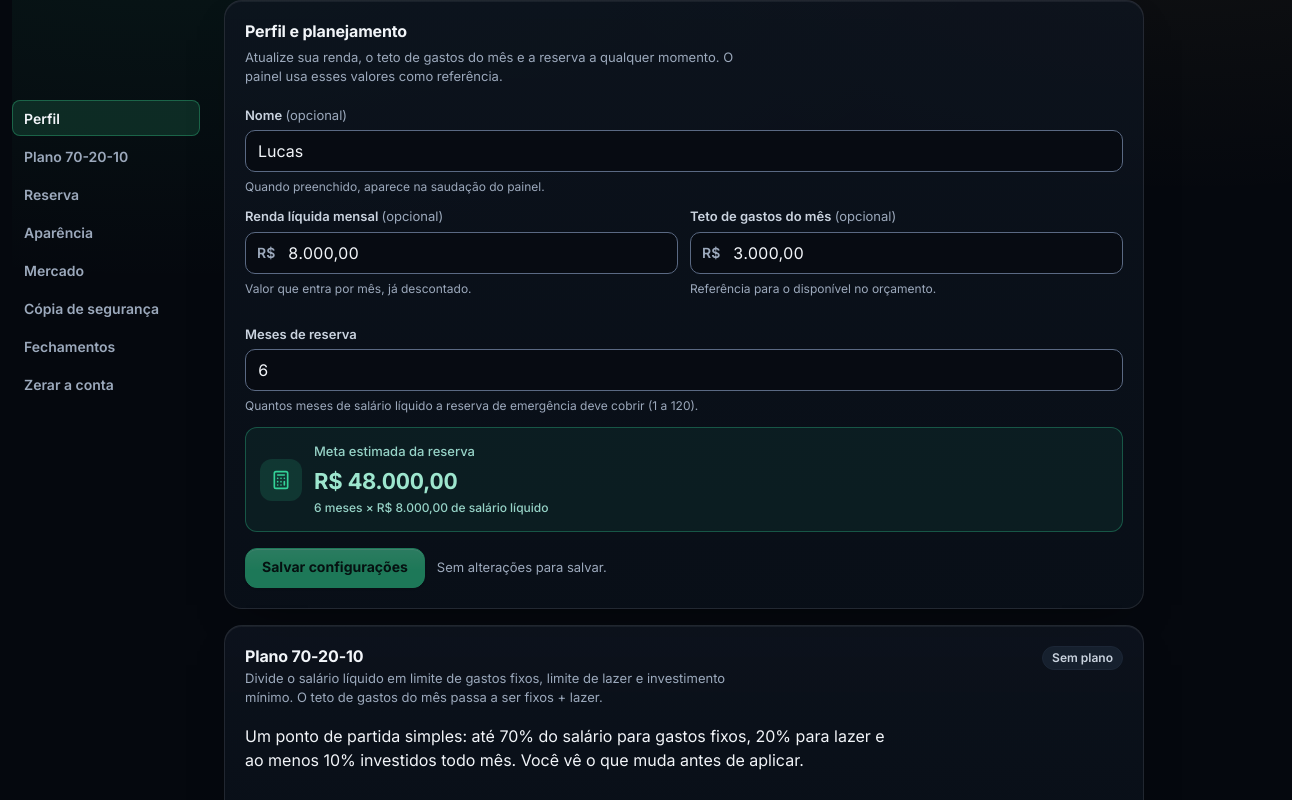
perfil e planejamento › leva o erro do servidor para o campo correspondente
Replace the text in the number field labelled "Meses de reserva" with "12" at (684, 370), box [245,349,1123,391]
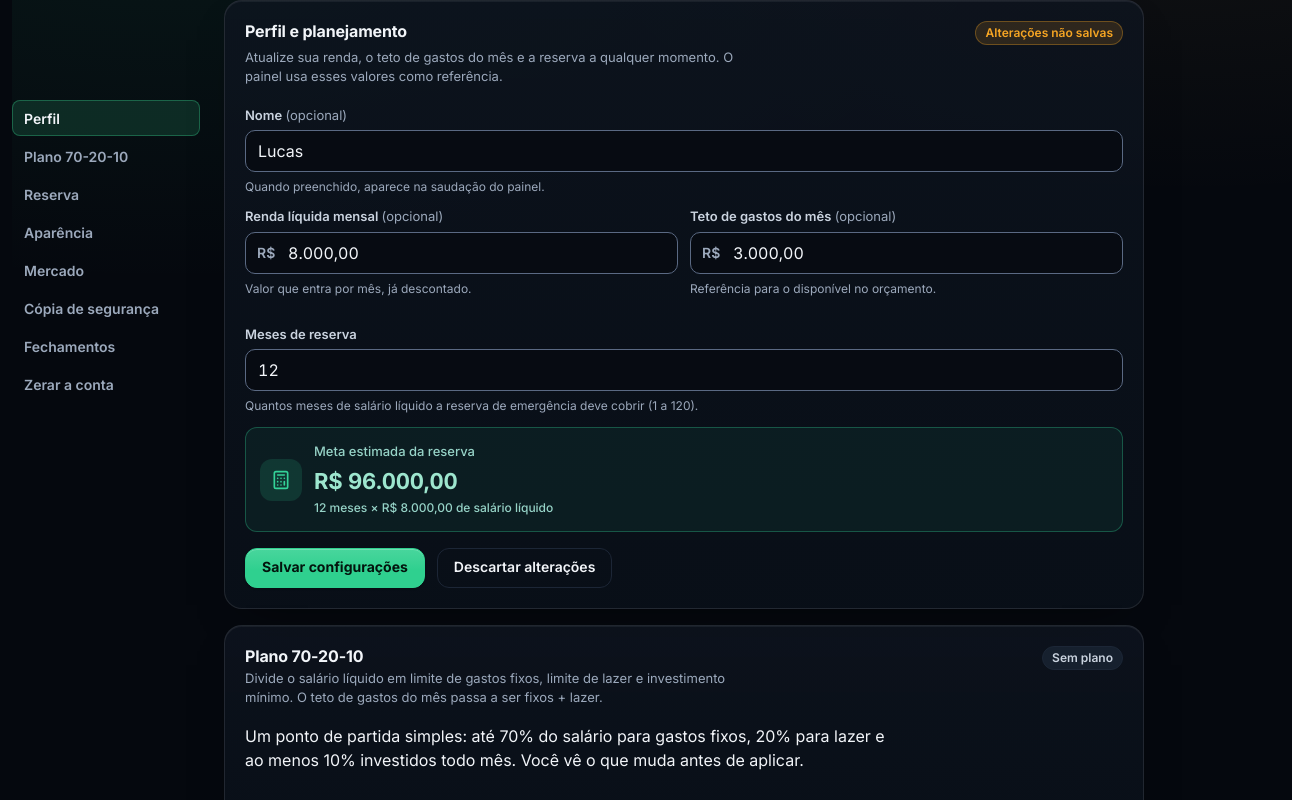
Click the button "Salvar configurações" at (335, 568), box [245,548,425,588]
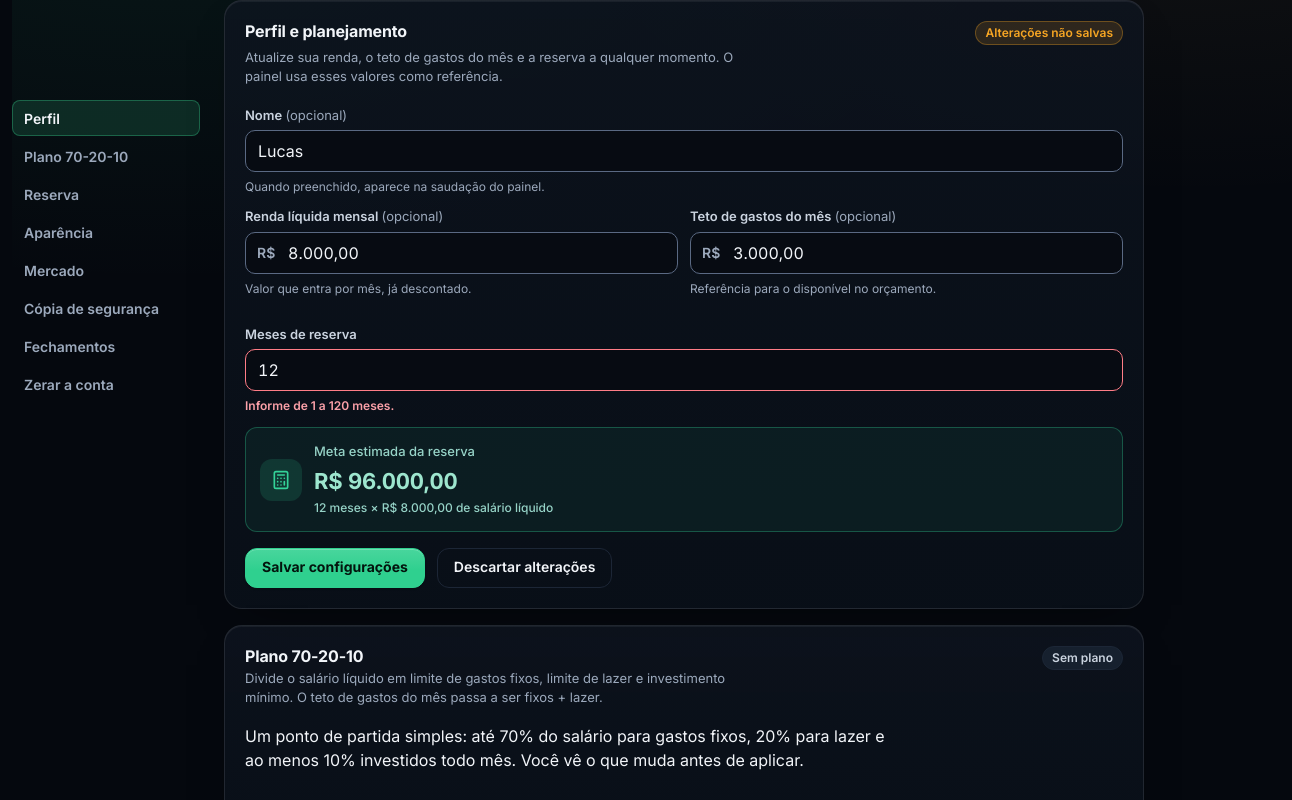
expect the text "Informe de 1 a 120 meses." is shown: met, box [245,398,394,413]
